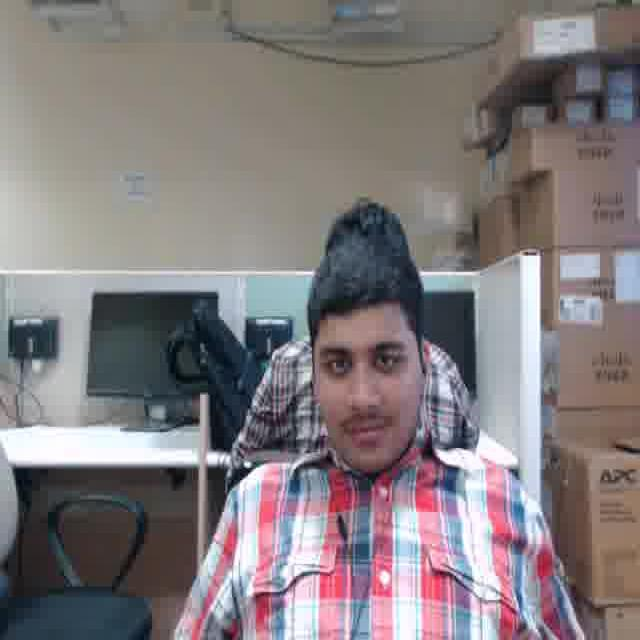Engaged: (311, 300, 416, 468)
